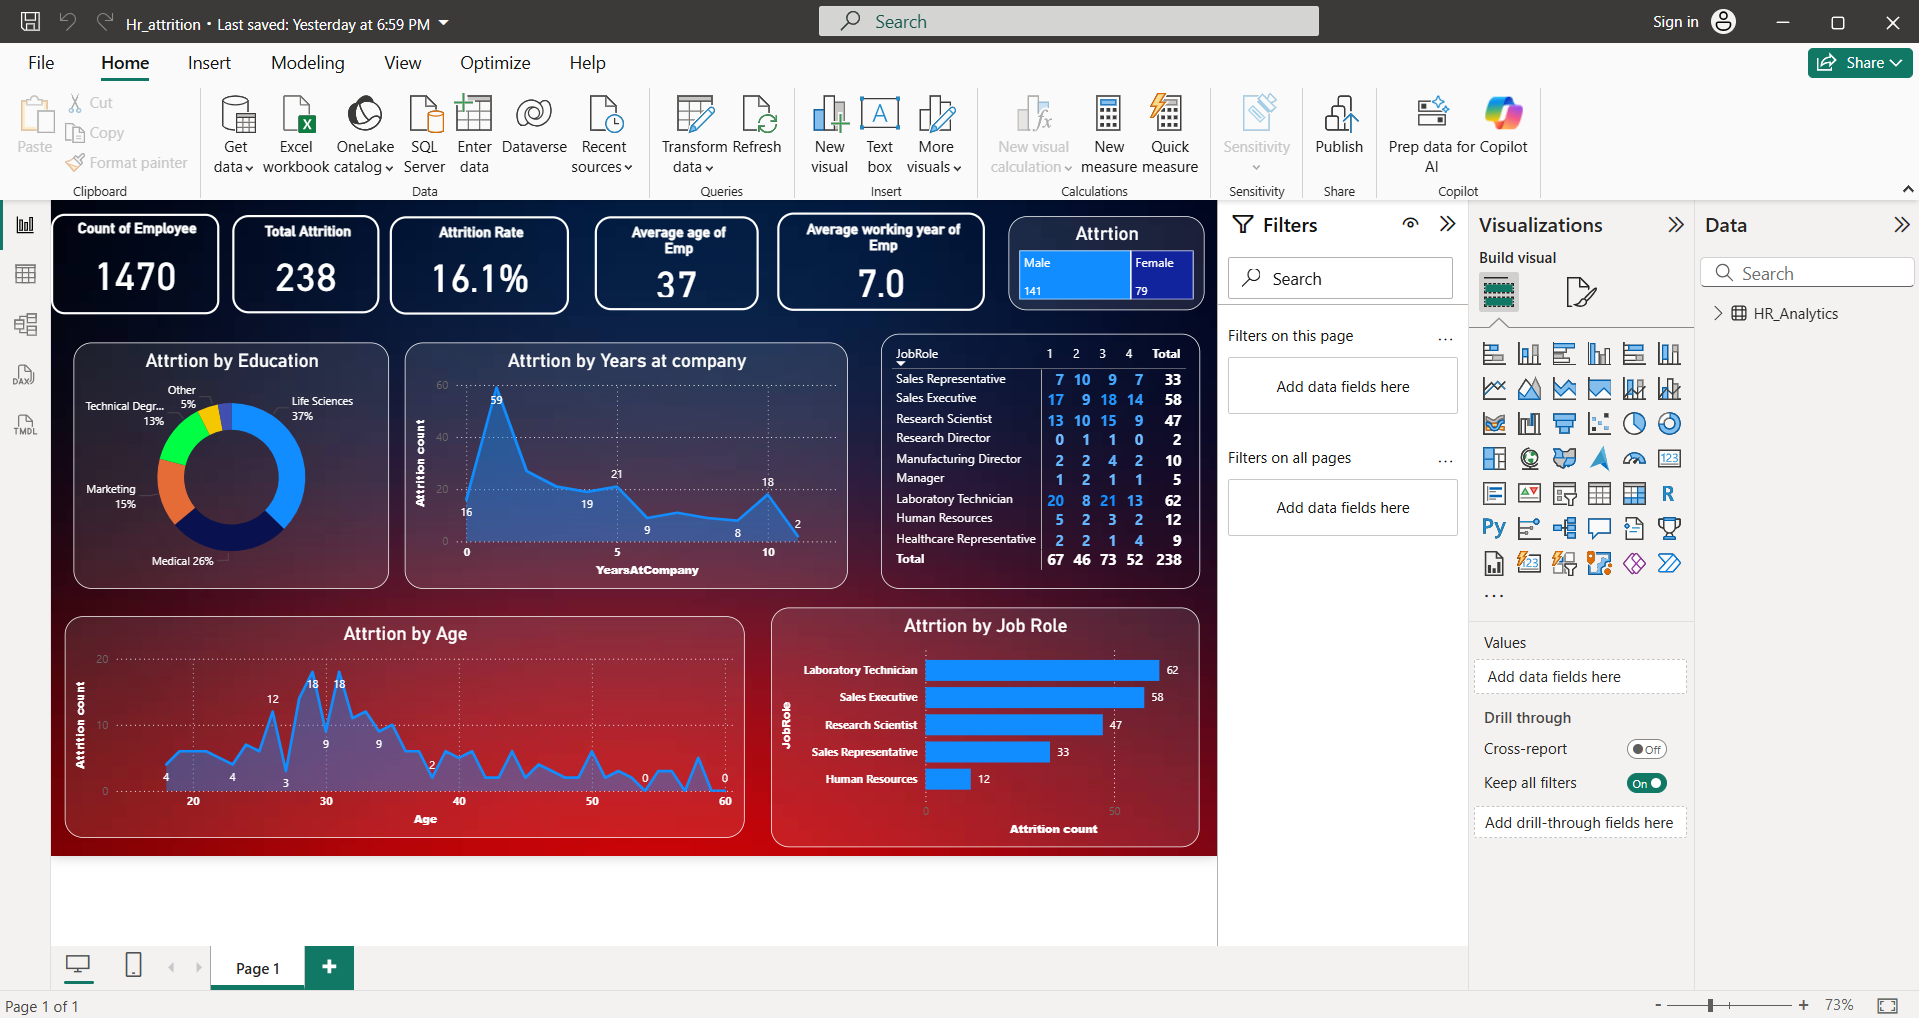

Layout of this report page (visuals, bound fields, positions):
{"tool":"powerbi","page":{"name":"Page 1","canvas":[1280,720],"ordinal":0},"visuals":[{"type":"card","title":"Count of Employee","fields":{"Values":["Count(HR_Analytics.EmpID)"]},"box":[0,15,185,110],"z":0},{"type":"card","title":"Total Attrition ","fields":{"Values":["Sum(HR_Analytics.Atrtion count)"]},"box":[198.3,16.7,161.7,108.3],"z":1000},{"type":"card","title":"Attrition Rate ","fields":{"Values":["HR_Analytics.Attrition rate"]},"box":[371.7,18.3,196.7,108.3],"z":2000},{"type":"card","title":"Average age of Emp","fields":{"Values":["Avg(HR_Analytics.Age)"]},"box":[596.7,18.3,180,103.3],"z":3000},{"type":"card","title":"Average working year of Emp","fields":{"Values":["Avg(HR_Analytics.YearsAtCompany)"]},"box":[796.7,13.3,228.3,108.3],"z":5000},{"type":"donutChart","title":"Attrtion by Education","fields":{"Category":["HR_Analytics.EducationField"],"Y":["Sum(HR_Analytics.Atrtion count)"]},"box":[25,156.7,346.7,270],"z":6000},{"type":"areaChart","title":"Attrtion by Years at company ","fields":{"Category":["HR_Analytics.YearsAtCompany"],"Y":["Sum(HR_Analytics.Atrtion count)"]},"box":[388.3,156.7,486.7,270],"z":7000},{"type":"pivotTable","fields":{"Rows":["HR_Analytics.JobRole"],"Columns":["HR_Analytics.JobSatisfaction"],"Values":["Sum(HR_Analytics.Atrtion count)"]},"box":[911.7,146.7,350,280],"z":8000},{"type":"areaChart","title":"Attrtion by Age","fields":{"Y":["Sum(HR_Analytics.Atrtion count)"],"Category":["HR_Analytics.Age"]},"box":[15,456.7,746.7,243.3],"z":9000},{"type":"clusteredBarChart","title":"Attrtion by Job Role","fields":{"Y":["Sum(HR_Analytics.Atrtion count)"],"Category":["HR_Analytics.JobRole"]},"box":[790,446.7,470,263.3],"z":10000},{"type":"treemap","title":"Attrtion ","fields":{"Group":["HR_Analytics.Gender"],"Values":["Sum(HR_Analytics.Atrtion count)"]},"box":[1051.7,18.3,215,103.3],"z":10001}]}

Visuals, with their boxes on the page's 1280x720 design canvas (x1, y1, x2, y2). These are canvas units, not pixel positions in the 1919x1018 screenshot, which may show the page scaled, cropped or inside an application window:
"Count of Employee" card: <box>0,15,185,125</box>
"Total Attrition " card: <box>198,17,360,125</box>
"Attrition Rate " card: <box>372,18,568,127</box>
"Average age of Emp" card: <box>597,18,777,122</box>
"Average working year of Emp" card: <box>797,13,1025,122</box>
"Attrtion by Education" donutChart: <box>25,157,372,427</box>
"Attrtion by Years at company " areaChart: <box>388,157,875,427</box>
pivotTable - HR_Analytics.JobRole x HR_Analytics.JobSatisfaction: <box>912,147,1262,427</box>
"Attrtion by Age" areaChart: <box>15,457,762,700</box>
"Attrtion by Job Role" clusteredBarChart: <box>790,447,1260,710</box>
"Attrtion " treemap: <box>1052,18,1267,122</box>
